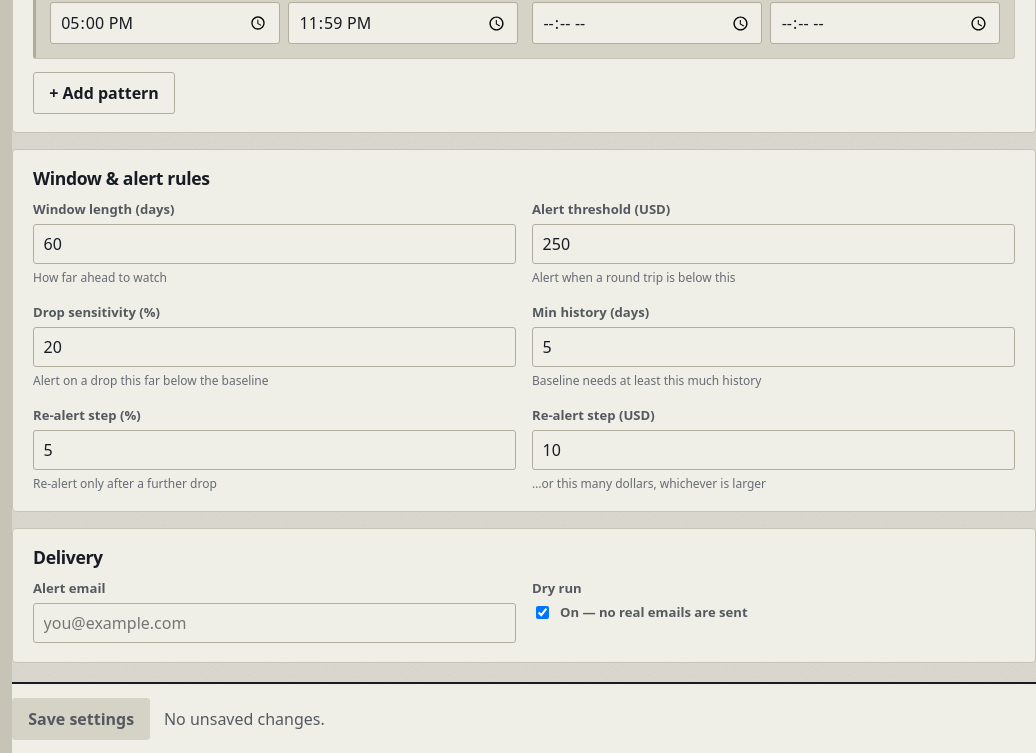
Scenario: SettingsForm › clears the pending toast timer on unmount instead of leaking it
This screenshot has width=1036, height=753.
(page scrolled)
# save is disabled while the draft matches the saved settings, so dirty it first
Click the checkbox labelled "Dry run": (542, 613) [536, 606, 549, 619]
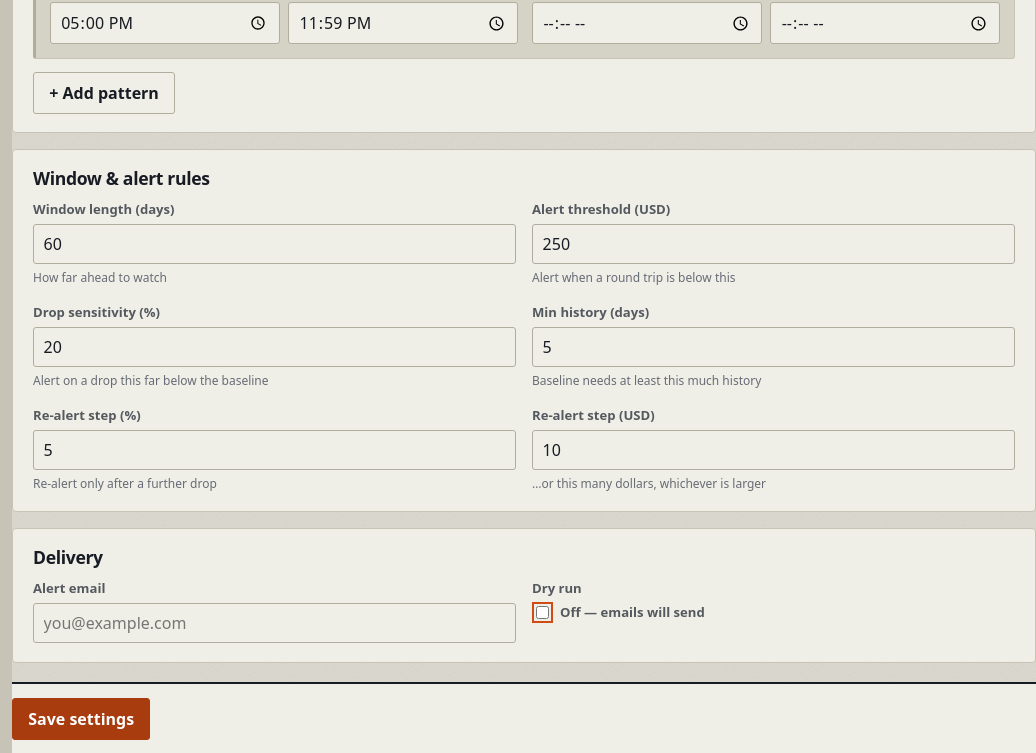
Click the button "Save settings": (81, 718) [12, 697, 150, 739]
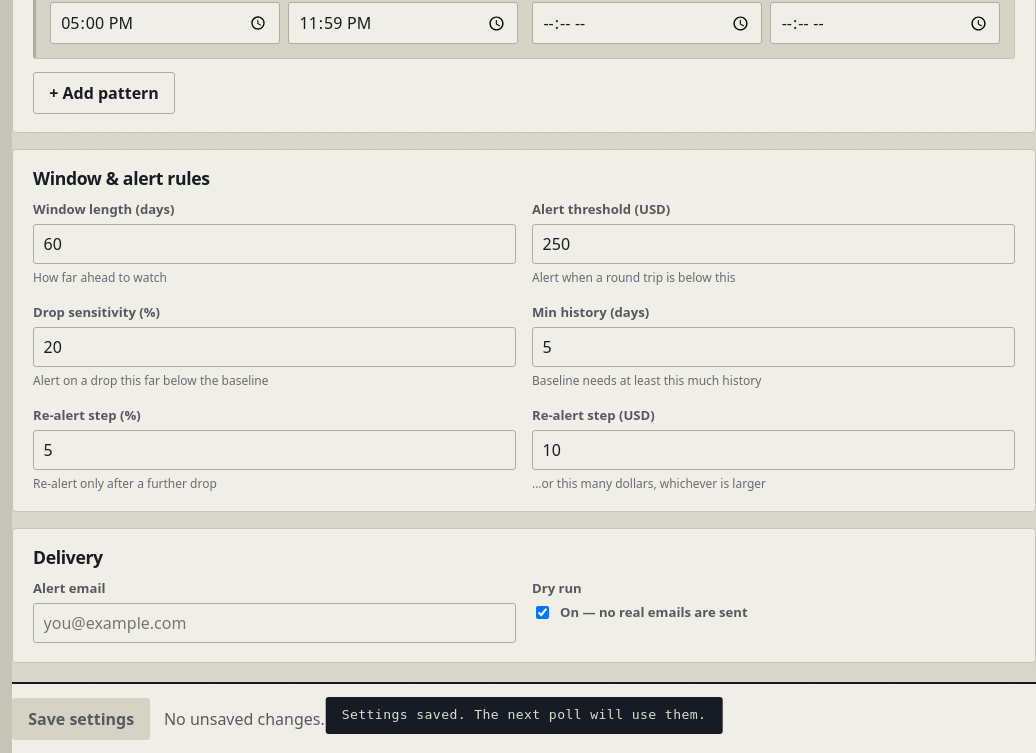
Now the message shows "Settings saved", box [342, 707, 706, 722]
